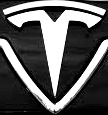Tesla: (2, 1, 107, 114)
